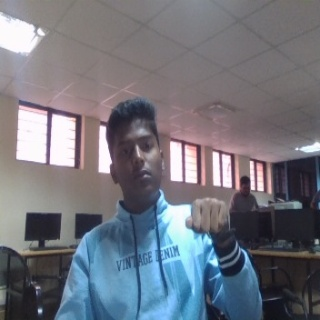Face: (106, 98, 169, 214)
Yes: (184, 195, 235, 244)
